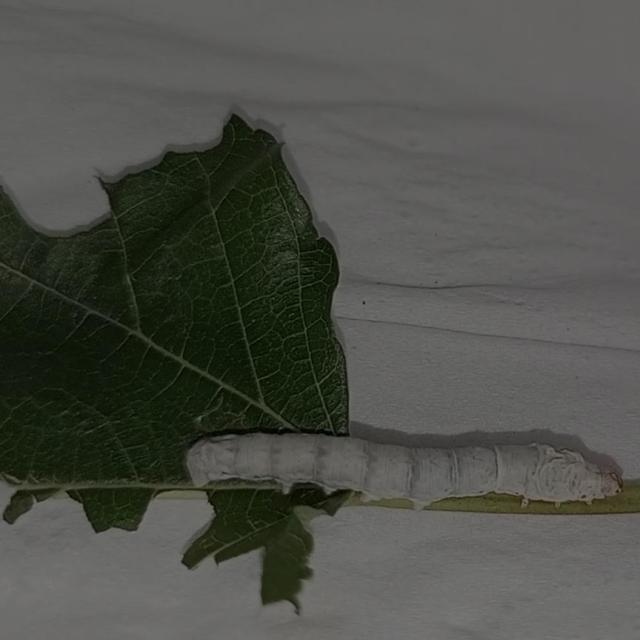Healthy: (178, 406, 630, 528)
